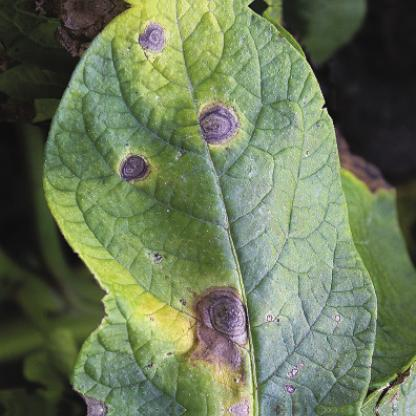Early-Blight: (42, 5, 378, 409)
